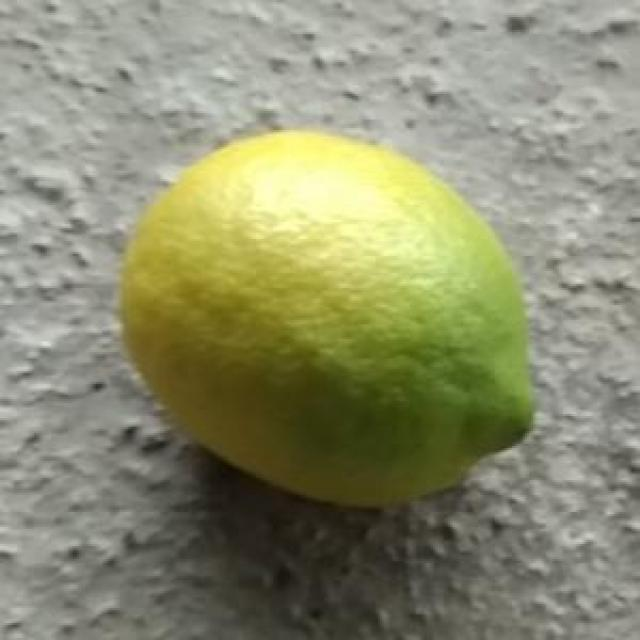lemon: (119, 126, 542, 503)
